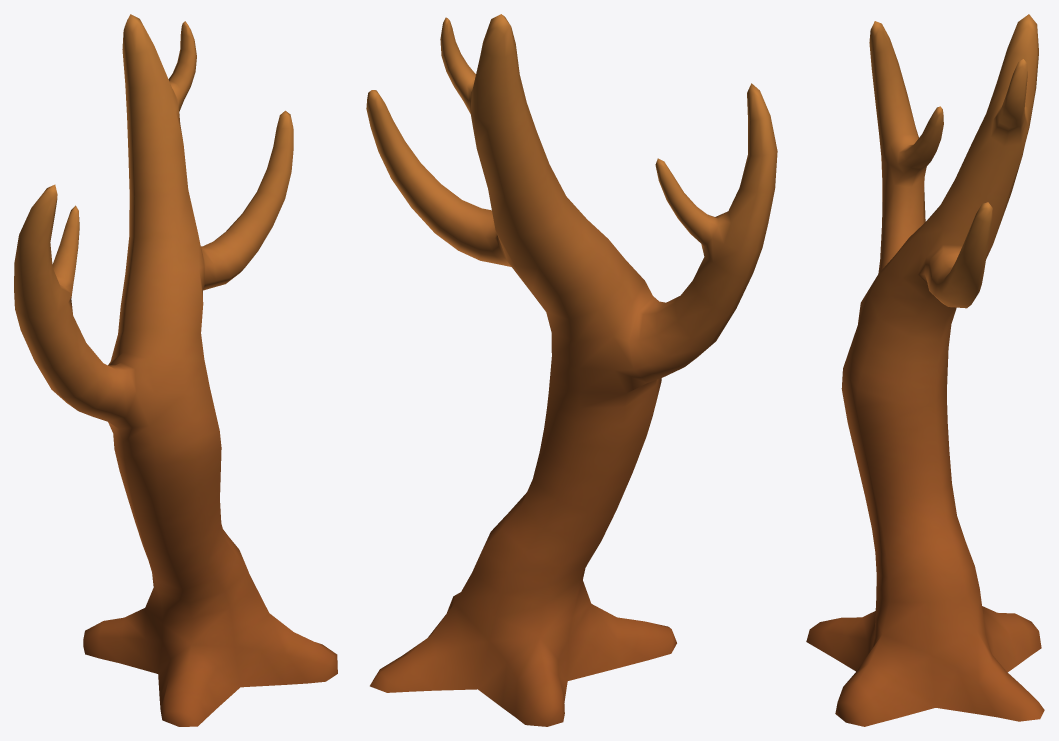
File: ArabianTree_L_01.fbx
3 renders of one model, left to right at view 1: azimuth 30°, elevation 25°; view 2: azimuth 150°, elevation 25°; view 3: azimuth 270°, elevation 25°, orthographic. The views are drawn at different scales.
Visible parts, largest first — view 1: ArabianTree_L_01; view 2: ArabianTree_L_01; view 3: ArabianTree_L_01.
Part boxes in pixels (x1,y1,x2,y2): ArabianTree_L_01: (14, 14, 337, 726); ArabianTree_L_01: (366, 14, 777, 726); ArabianTree_L_01: (806, 14, 1044, 726).
Size of the model in its own units: 284 by 532 by 177.
